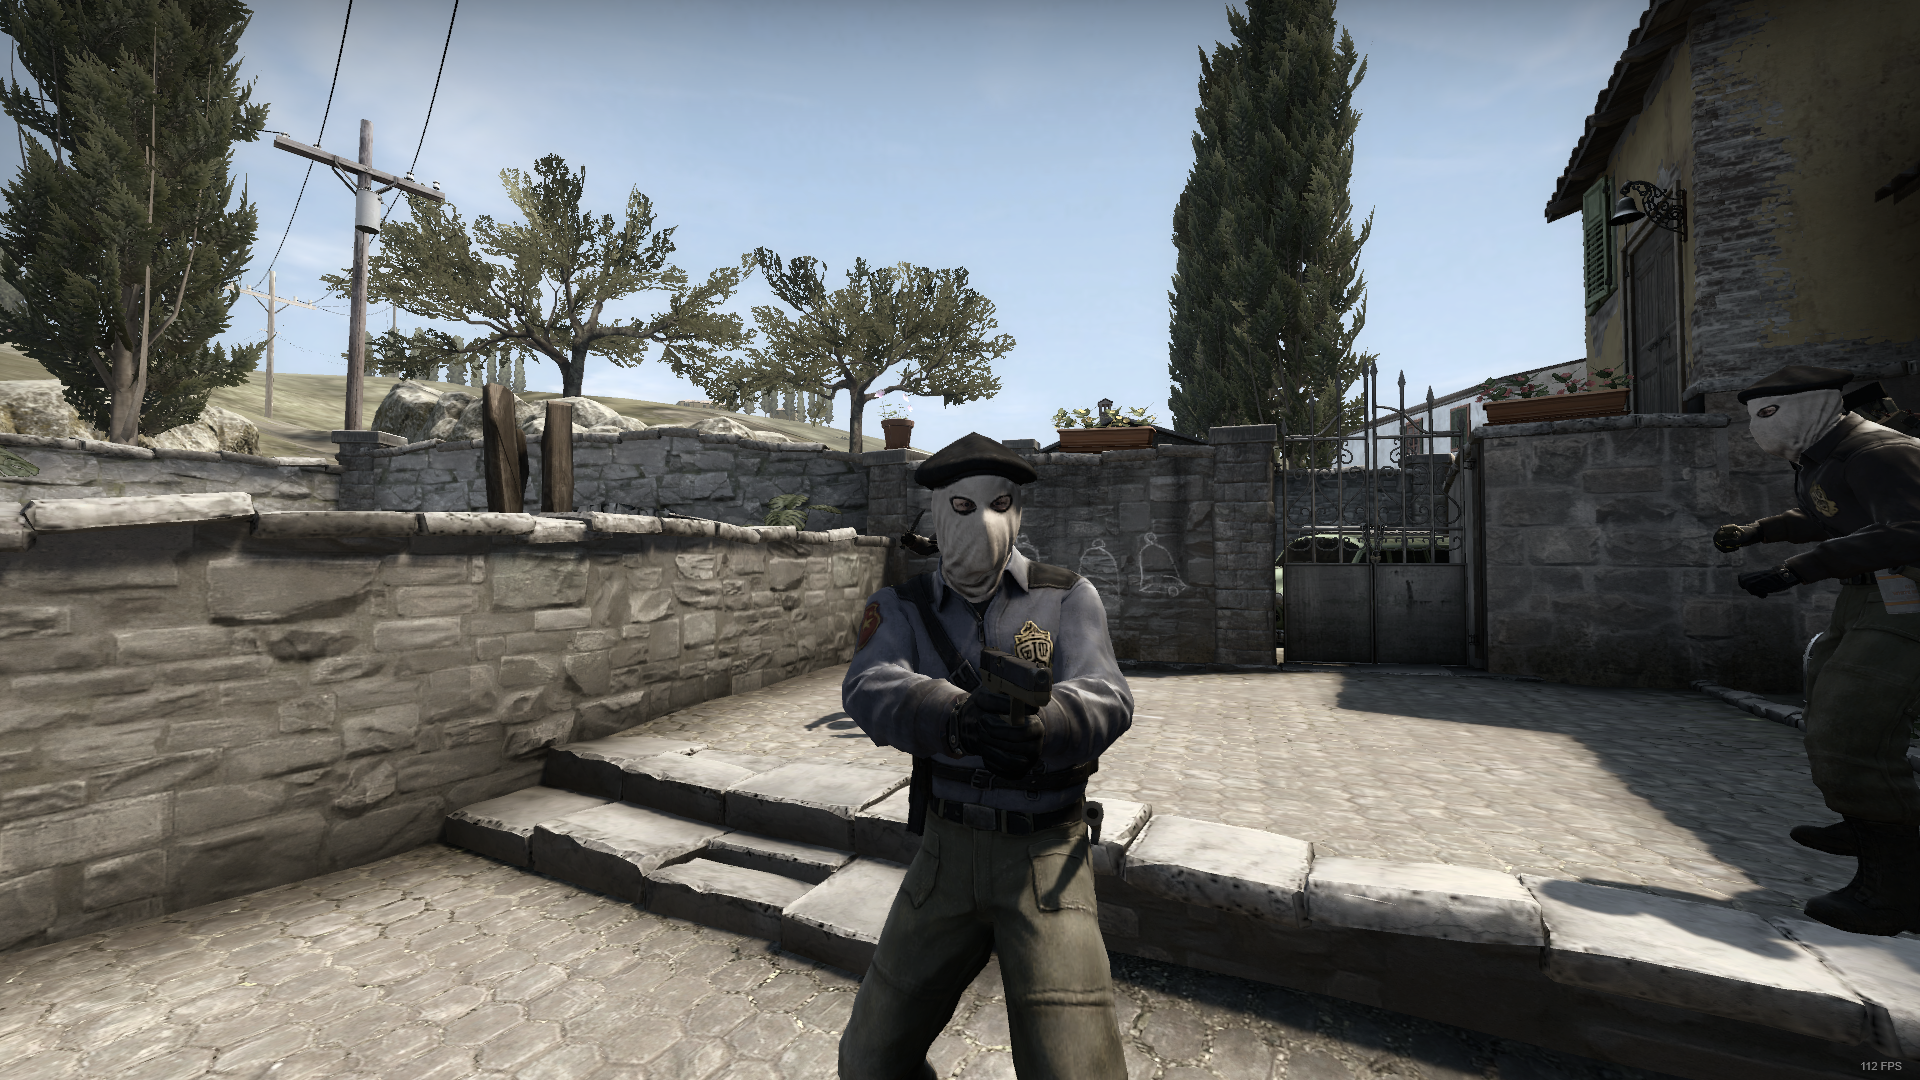t: (845, 429, 1137, 1080), (1716, 363, 1920, 938)
